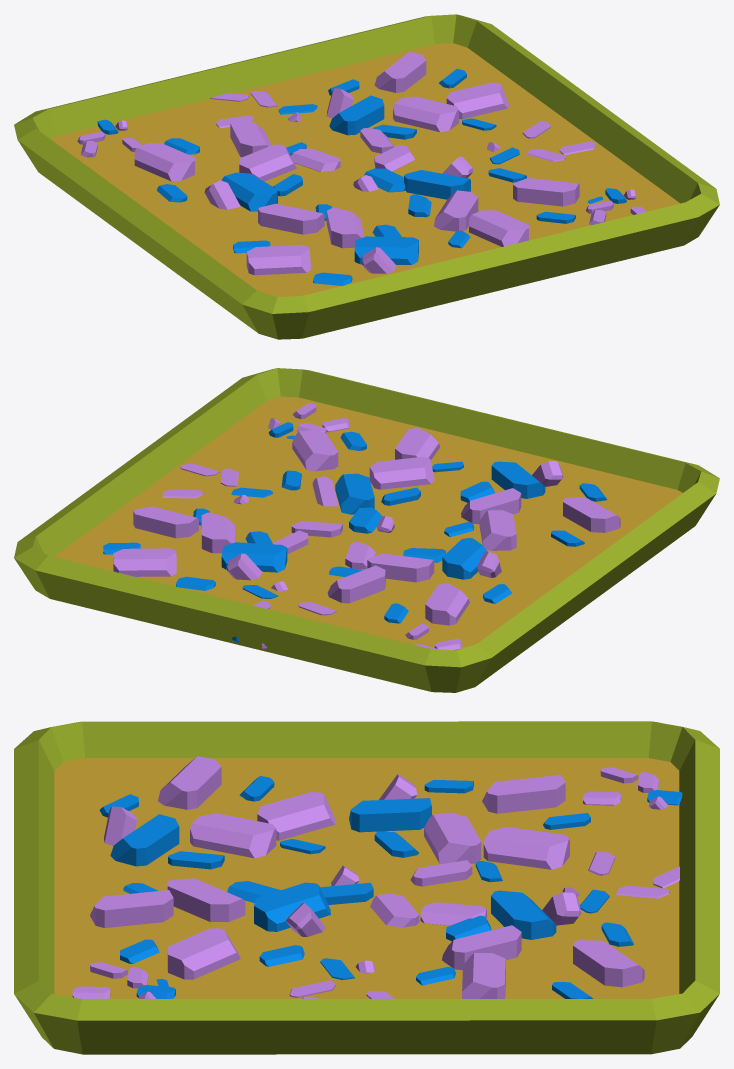
Rendered from ChocolateBarkRaw.fbx.
The picture shows the model from 3 angles, top to bottom: view 1: azimuth 30°, elevation 25°; view 2: azimuth 150°, elevation 25°; view 3: azimuth 270°, elevation 25°; orthographic projection. The views are drawn at different scales.
Parts seen in each view (by area): view 1: Chocolate, TrayCookie, Roasted Nuts.012; view 2: Chocolate, TrayCookie, Roasted Nuts.012; view 3: Chocolate, TrayCookie, Roasted Nuts.012.
Boxes of the visible parts, bbox=[...] form: Chocolate: bbox=[51, 43, 679, 296]; TrayCookie: bbox=[14, 14, 719, 339]; Roasted Nuts.012: bbox=[77, 51, 646, 285]; Chocolate: bbox=[54, 396, 682, 650]; TrayCookie: bbox=[14, 368, 719, 692]; Roasted Nuts.012: bbox=[103, 402, 620, 650]; Chocolate: bbox=[54, 758, 679, 998]; TrayCookie: bbox=[14, 721, 719, 1054]; Roasted Nuts.012: bbox=[72, 756, 682, 998].
Bounding box in the file's own units: 50.34 × 4.48 × 50.34.
